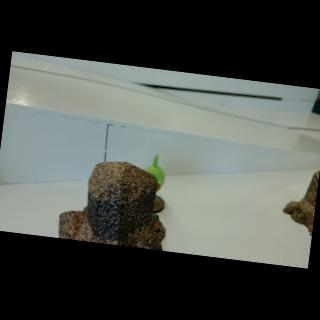teletubby: (145, 155, 165, 191)
